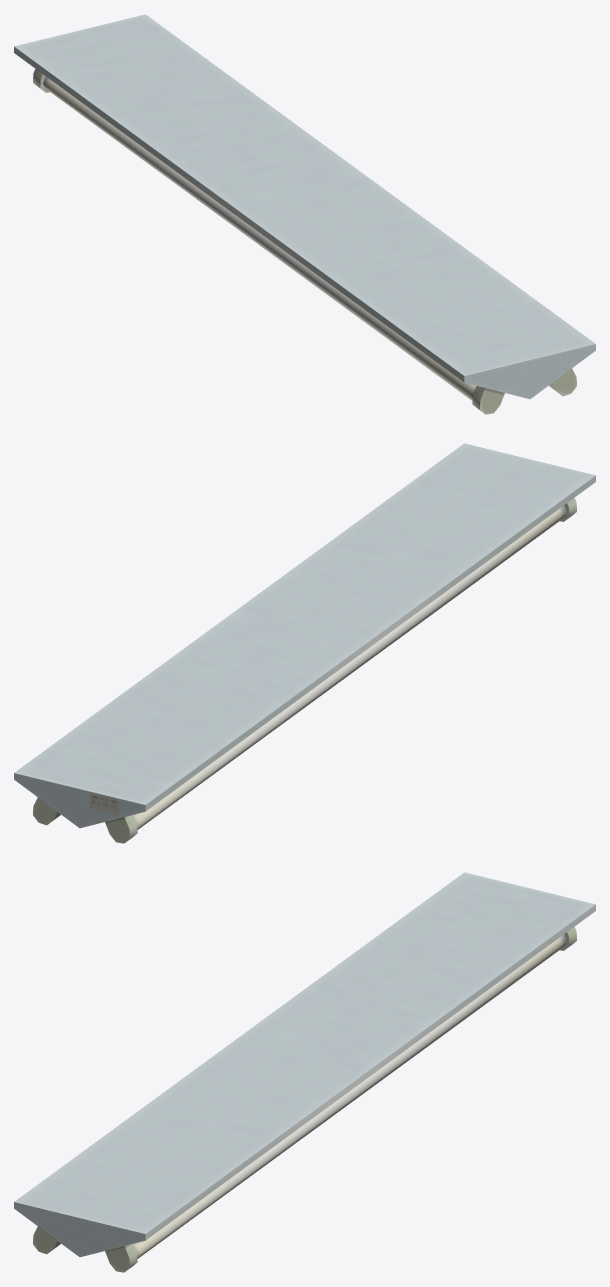
File: set_light_01_01.fbx
3 views of the same model, one above another, from view 1: azimuth 30°, elevation 25°; view 2: azimuth 150°, elevation 25°; view 3: azimuth 330°, elevation 25° (orthographic).
Parts seen in each view (by area): view 1: light02, light01; view 2: light02, light01; view 3: light02, light01.
Boxes of the visible parts, x1=… form: light02: x1=14, y1=14, x2=595, y2=414; light01: x1=43, y1=76, x2=476, y2=400; light02: x1=14, y1=443, x2=595, y2=843; light01: x1=133, y1=505, x2=566, y2=829; light02: x1=14, y1=872, x2=595, y2=1272; light01: x1=133, y1=934, x2=566, y2=1258.
Size of the model in its own units: 21 by 7.03 by 124.
